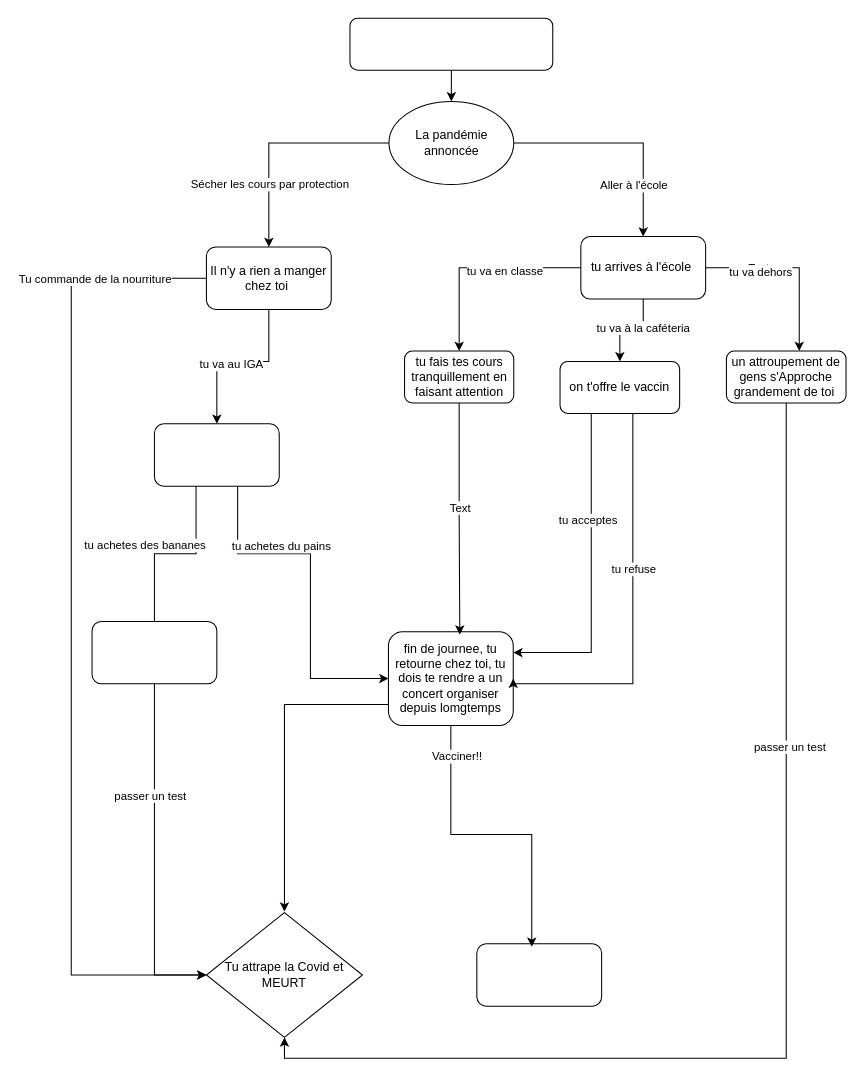
The diagram is 864 pixels wide and 1085 high, and some of its shapes have lost their labels. Here are the shapes that lost their labels. From the top down, the centre of each, then its label:
At (x=451, y=43): "Reveille; mars 2020".
At (x=216, y=454): "tu dois choisir ce que tu veux acheter".
At (x=154, y=652): "quelque te colle dans l'allé des fruit".
At (x=539, y=974): "Sortie de la pandémie!!".
